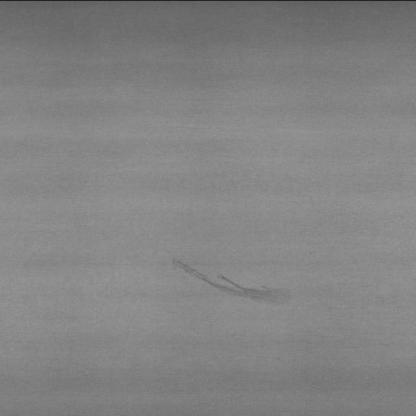water_spot: (161, 249, 305, 306)
